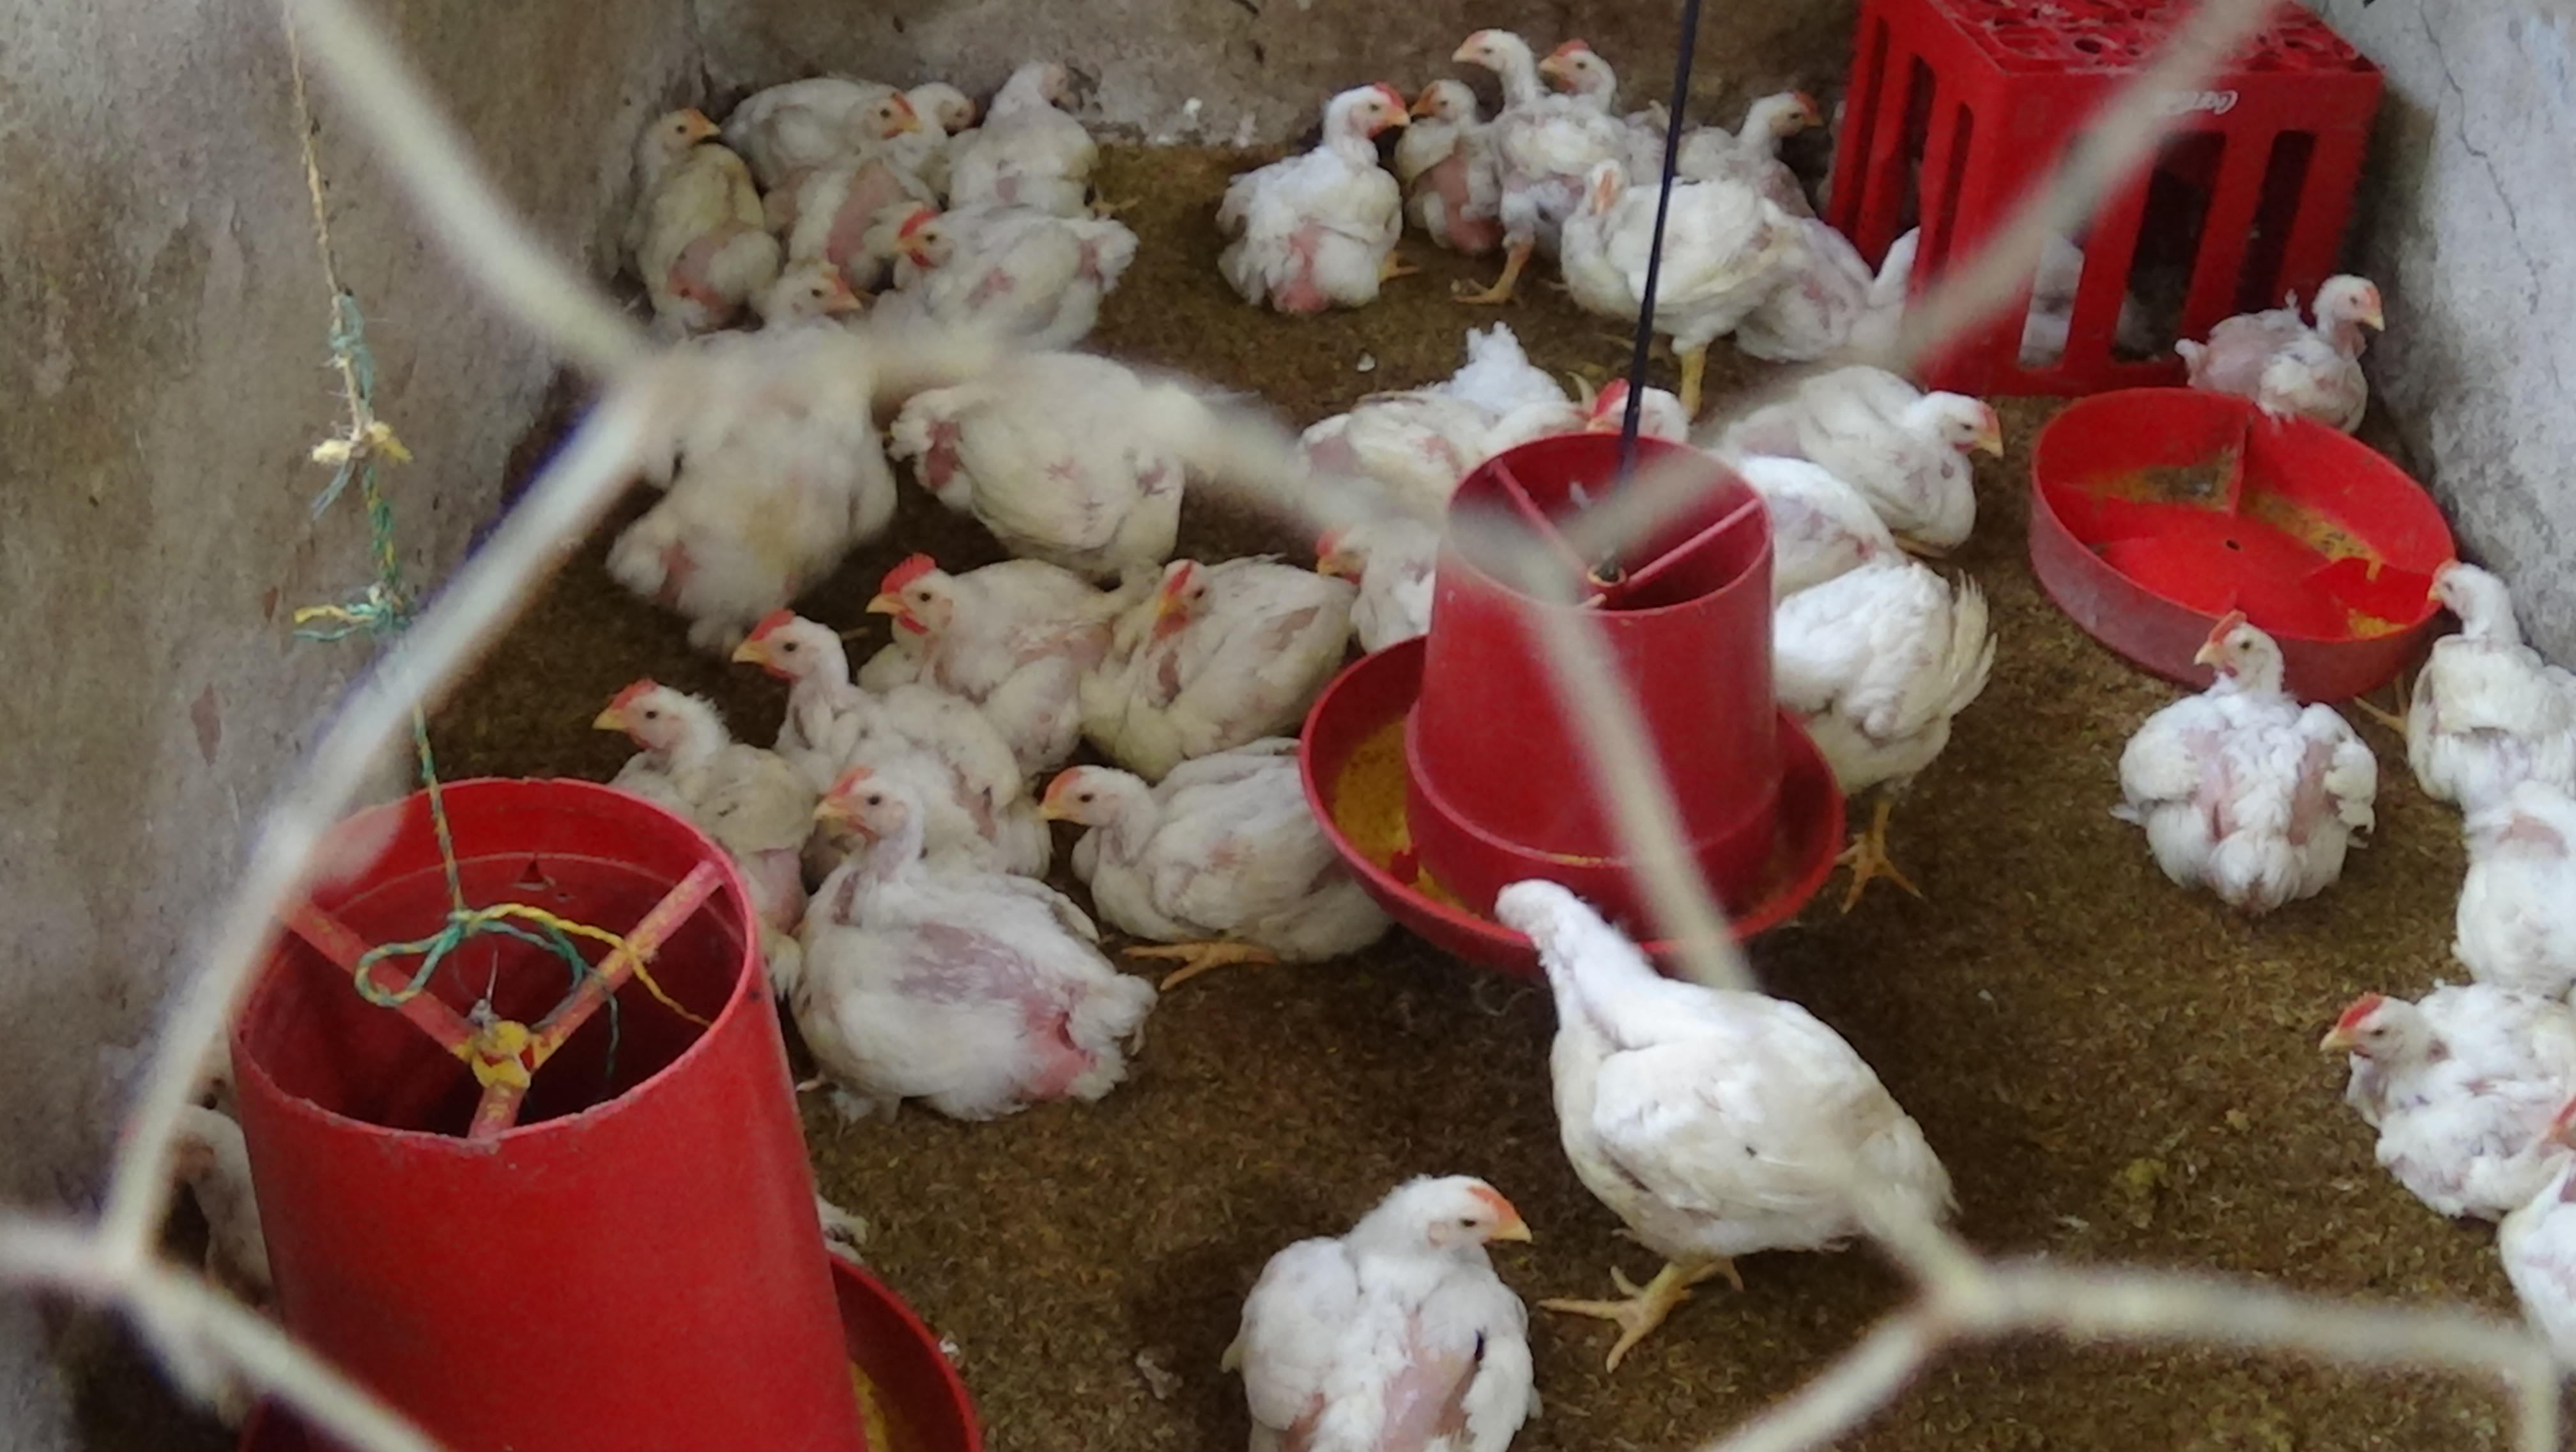Pollos: (1493, 862, 1976, 1330), (759, 763, 1138, 1108), (1192, 1174, 1557, 1452), (2116, 609, 2367, 951), (1014, 730, 1380, 962), (1752, 558, 2024, 836), (2311, 985, 2572, 1208), (869, 367, 1189, 547), (1214, 83, 1417, 333), (1568, 151, 1810, 358), (626, 434, 876, 611), (1104, 538, 1315, 745), (2167, 260, 2408, 437), (1771, 372, 2008, 526), (2404, 540, 2572, 737), (550, 641, 720, 816), (1691, 69, 1863, 200), (855, 528, 1003, 662), (729, 579, 860, 721), (1571, 354, 1706, 478), (1532, 25, 1672, 133), (619, 104, 729, 227), (780, 76, 913, 172), (892, 212, 996, 322), (1307, 489, 1392, 618), (996, 41, 1090, 147), (904, 64, 1001, 159), (778, 257, 867, 344), (1403, 55, 1468, 159), (1444, 23, 1537, 92)
